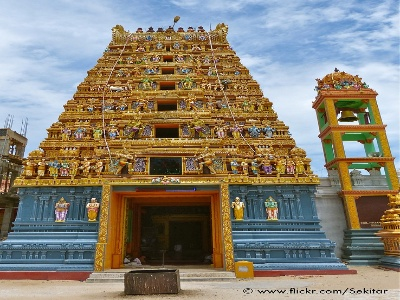gopura: (28, 20, 316, 188)
